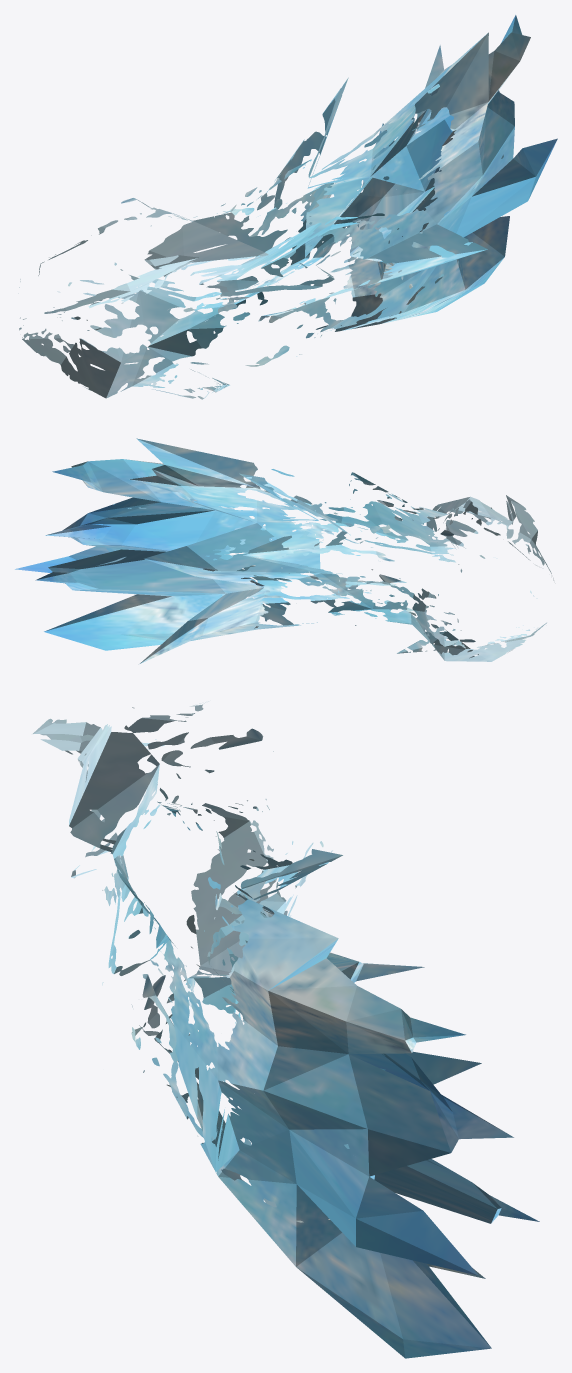
File: wolverine_rthand_ice.glb
3 views of the same model, one above another, from view 1: azimuth 30°, elevation 25°; view 2: azimuth 150°, elevation 25°; view 3: azimuth 270°, elevation 25° (orthographic). The views are drawn at different scales.
Parts seen in each view (by area): view 1: wolverine_rthand_ice_0; view 2: wolverine_rthand_ice_0; view 3: wolverine_rthand_ice_0.
Boxes of the visible parts, x1,y1,x2,y2 form: wolverine_rthand_ice_0: (19, 15, 557, 399); wolverine_rthand_ice_0: (15, 438, 553, 663); wolverine_rthand_ice_0: (33, 701, 539, 1358).
Bounding box in the file's own units: 23.45 × 9.76 × 11.06.
1 material, 1 textured.
